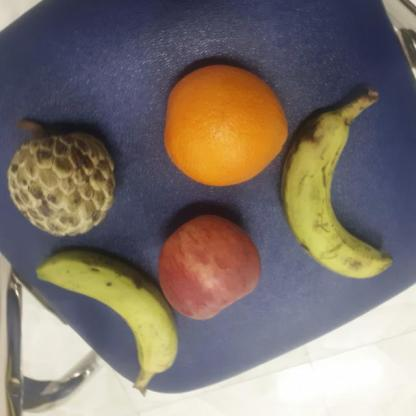annona: (7, 124, 119, 241)
apple: (157, 210, 265, 322)
banana: (282, 108, 396, 287), (31, 249, 185, 376)
orange: (162, 59, 292, 190)
